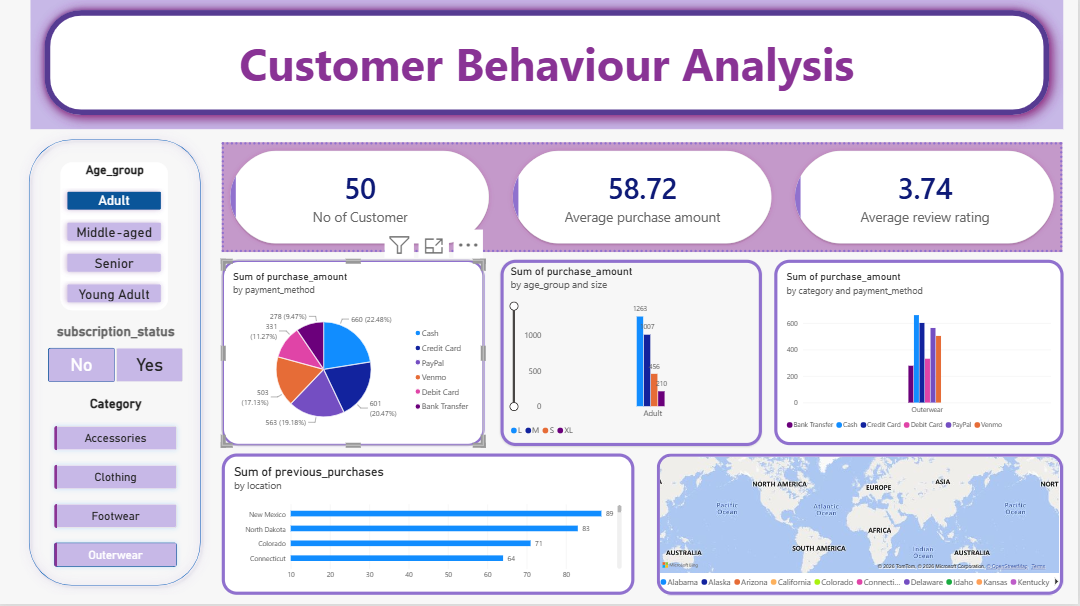

Layout of this report page (visuals, bound fields, positions):
{"tool":"powerbi","page":{"name":"Page 1","canvas":[1920,1080],"ordinal":0},"visuals":[{"type":"shape","box":[37,236.7,339.6,827.4],"z":0},{"type":"advancedSlicerVisual","title":"Age_group","fields":{"Values":["public customer.age_group"]},"box":[111.1,296.4,191.4,263.5],"z":1000},{"type":"advancedSlicerVisual","title":"Category","fields":{"Values":["public customer.category"]},"box":[88.5,712.2,240.8,317],"z":2000},{"type":"cardVisual","fields":{"Data":["public customer.No of Customer","public customer.Average purchase amount","public customer.Average review rating"]},"box":[397.8,260,1495.6,195.6],"z":3000},{"type":"advancedSlicerVisual","fields":{"Values":["public customer.subscription_status"]},"box":[88.5,582.5,240.8,105],"z":4000},{"type":"shape","box":[57.6,0,1836,236.7],"z":5000},{"type":"pieChart","fields":{"Category":["public customer.payment_method"],"Y":["Sum(public customer.purchase_amount)"]},"box":[397.8,468.9,467.2,331.4],"z":6000},{"type":"clusteredColumnChart","fields":{"Category":["public customer.age_group"],"Series":["public customer.size"],"Y":["Sum(public customer.purchase_amount)"]},"box":[893.3,468.9,465.2,331.4],"z":7000},{"type":"clusteredColumnChart","fields":{"Category":["public customer.category"],"Series":["public customer.payment_method"],"Y":["Sum(public customer.purchase_amount)"]},"box":[1380,468.9,514.6,329.3],"z":8000},{"type":"clusteredBarChart","fields":{"Category":["public customer.location"],"Y":["Sum(public customer.previous_purchases)"]},"box":[397.8,813.3,733.3,251.1],"z":8001},{"type":"map","fields":{"Category":["public customer.category"],"Series":["public customer.location"]},"box":[1171.1,813.3,722.2,251.1],"z":8002}]}

Visuals, with their boxes in screenshot pixels (x1, y1, x2, y2), scaled from the page's 1920x1080 canvas onto the 1080x606 screenshot:
shape: locate(21, 133, 212, 597)
"Age_group" advancedSlicerVisual: locate(62, 166, 170, 314)
"Category" advancedSlicerVisual: locate(50, 400, 185, 577)
cardVisual - public customer.No of Customer x public customer.Average purchase amount: locate(224, 146, 1065, 256)
advancedSlicerVisual - public customer.subscription_status: locate(50, 327, 185, 386)
shape: locate(32, 0, 1065, 133)
pieChart - public customer.payment_method x Sum(public customer.purchase_amount): locate(224, 263, 487, 449)
clusteredColumnChart - public customer.age_group x public customer.size: locate(502, 263, 764, 449)
clusteredColumnChart - public customer.category x public customer.payment_method: locate(776, 263, 1066, 448)
clusteredBarChart - public customer.location x Sum(public customer.previous_purchases): locate(224, 456, 636, 597)
map - public customer.category x public customer.location: locate(659, 456, 1065, 597)
